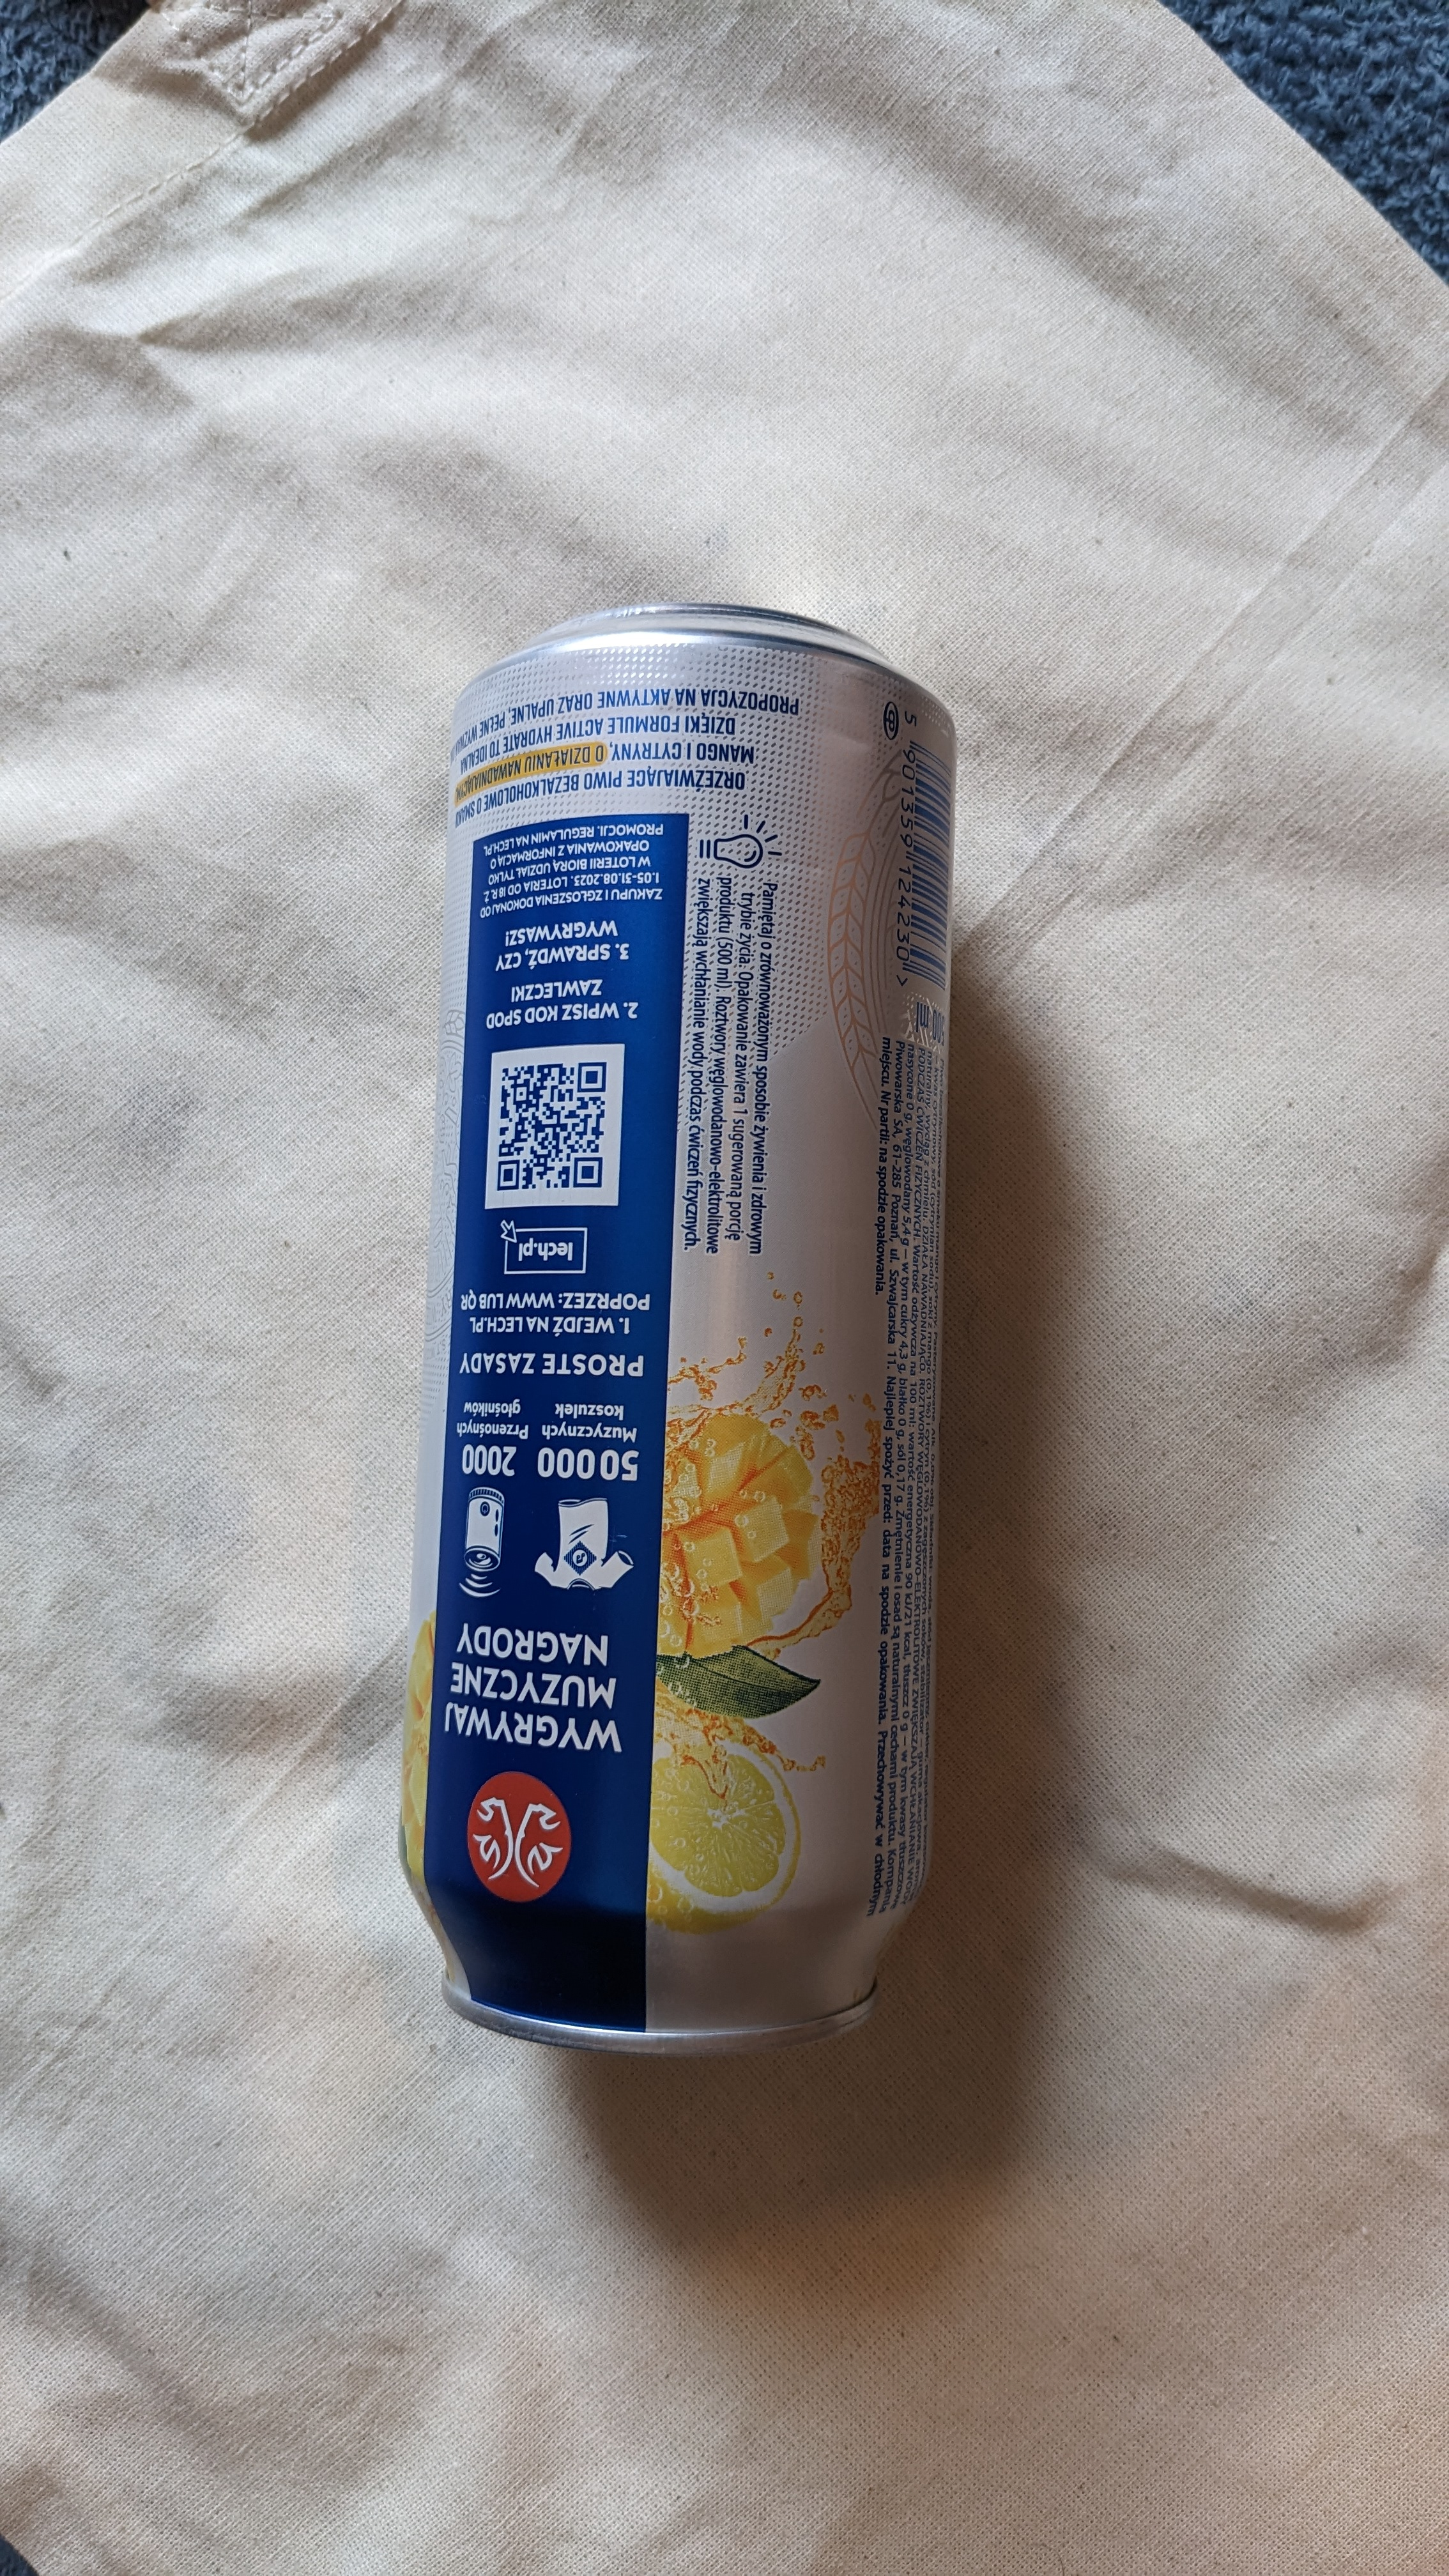lech-active: (387, 605, 985, 2132)
